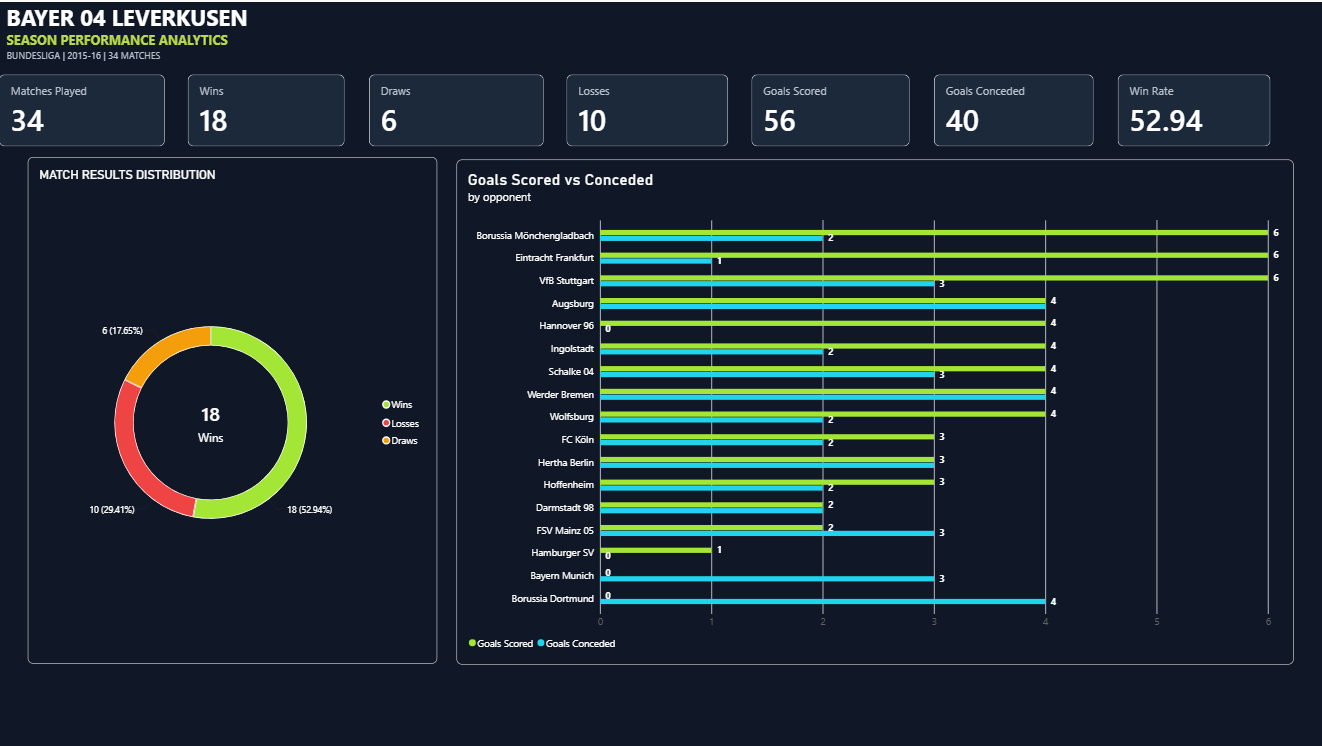

What the dashboard file says about the page in this screenshot:
{"tool":"powerbi","page":{"name":"Season Overview","canvas":[1920,1080],"ordinal":0},"visuals":[{"type":"textbox","box":[10.7,0,582,130.8],"z":0},{"type":"cardVisual","fields":{"Data":["Sum(public bayer_season_summary.matches_played)"]},"box":[0,104.3,240.4,104.3],"z":1000},{"type":"cardVisual","fields":{"Data":["Sum(public bayer_season_summary.wins)"]},"box":[274.1,104.3,227.7,104.3],"z":2000},{"type":"cardVisual","fields":{"Data":["Sum(public bayer_season_summary.draws)"]},"box":[535.5,104.3,253.2,104.3],"z":3000},{"type":"cardVisual","fields":{"Data":["Sum(public bayer_season_summary.losses)"]},"box":[822.3,104.3,234,104.3],"z":4000},{"type":"cardVisual","fields":{"Data":["Sum(public bayer_season_summary.goals_scored)"]},"box":[1090.1,104.3,229.8,104.3],"z":5000},{"type":"cardVisual","fields":{"Data":["Sum(public bayer_season_summary.goals_conceded)"]},"box":[1353.5,104.3,231.9,104.3],"z":6000},{"type":"cardVisual","fields":{"Data":["Sum(public bayer_season_summary.win_percentage)"]},"box":[1619.1,104.3,221.3,104.3],"z":7000},{"type":"donutChart","title":"MATCH RESULTS DISTRIBUTION","fields":{"Y":["Sum(public bayer_season_summary.wins)","Sum(public bayer_season_summary.losses)","Sum(public bayer_season_summary.draws)"]},"box":[41.1,225.1,593,733.6],"z":8000},{"type":"clusteredBarChart","title":"Goals Scored vs Conceded","fields":{"Category":["public bayer_leverkusen_match_analysis.opponent"],"Y":["Sum(public bayer_leverkusen_match_analysis.goals_scored)","Sum(public bayer_leverkusen_match_analysis.goals_conceded)"]},"box":[662.2,227.2,1211.9,731.5],"z":9000}]}

Visuals, with their boxes in screenshot pixels (x1, y1, x2, y2), scaled from the page's 1920x1080 canvas onto the 1322x746 screenshot:
textbox: (7,0,408,90)
cardVisual - Sum(public bayer_season_summary.matches_played): (0,72,166,144)
cardVisual - Sum(public bayer_season_summary.wins): (189,72,346,144)
cardVisual - Sum(public bayer_season_summary.draws): (369,72,543,144)
cardVisual - Sum(public bayer_season_summary.losses): (566,72,727,144)
cardVisual - Sum(public bayer_season_summary.goals_scored): (751,72,909,144)
cardVisual - Sum(public bayer_season_summary.goals_conceded): (932,72,1092,144)
cardVisual - Sum(public bayer_season_summary.win_percentage): (1115,72,1267,144)
"MATCH RESULTS DISTRIBUTION" donutChart: (28,155,437,662)
"Goals Scored vs Conceded" clusteredBarChart: (456,157,1290,662)
